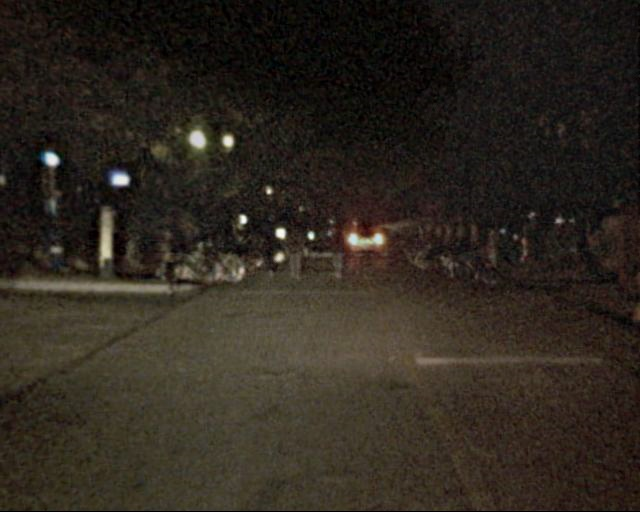person: (157, 224, 189, 302), (252, 218, 276, 275), (324, 221, 346, 283), (283, 228, 306, 284)
